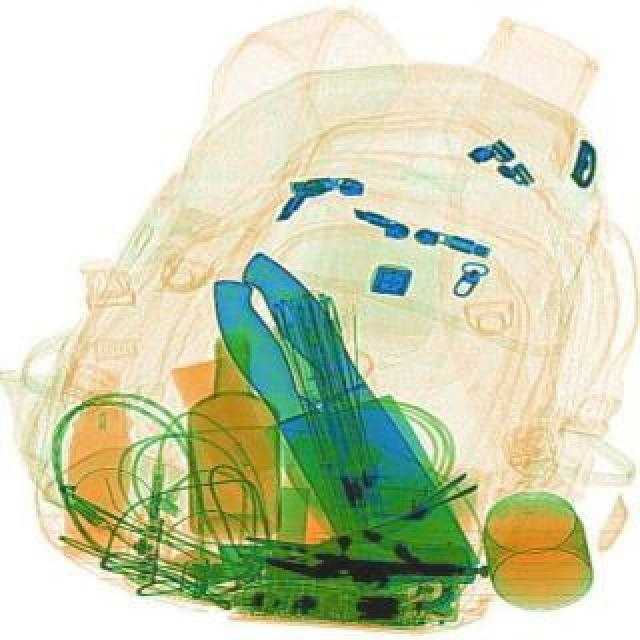knife: (174, 236, 474, 612), (194, 240, 484, 610)
